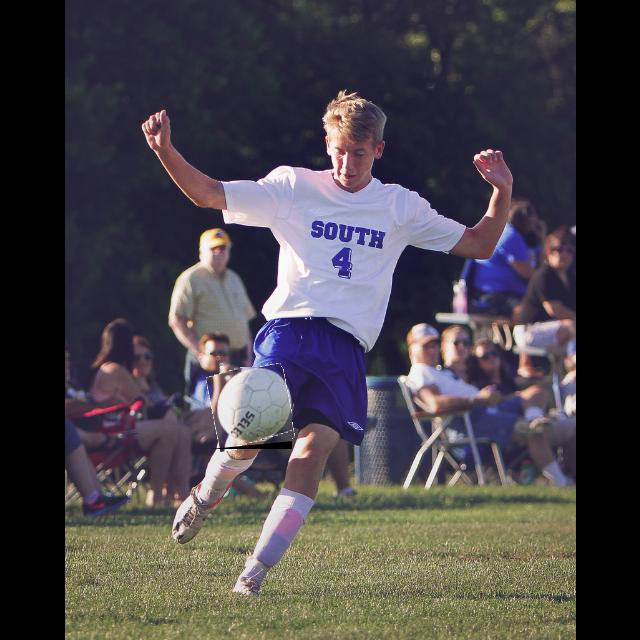Football: (210, 367, 292, 449)
